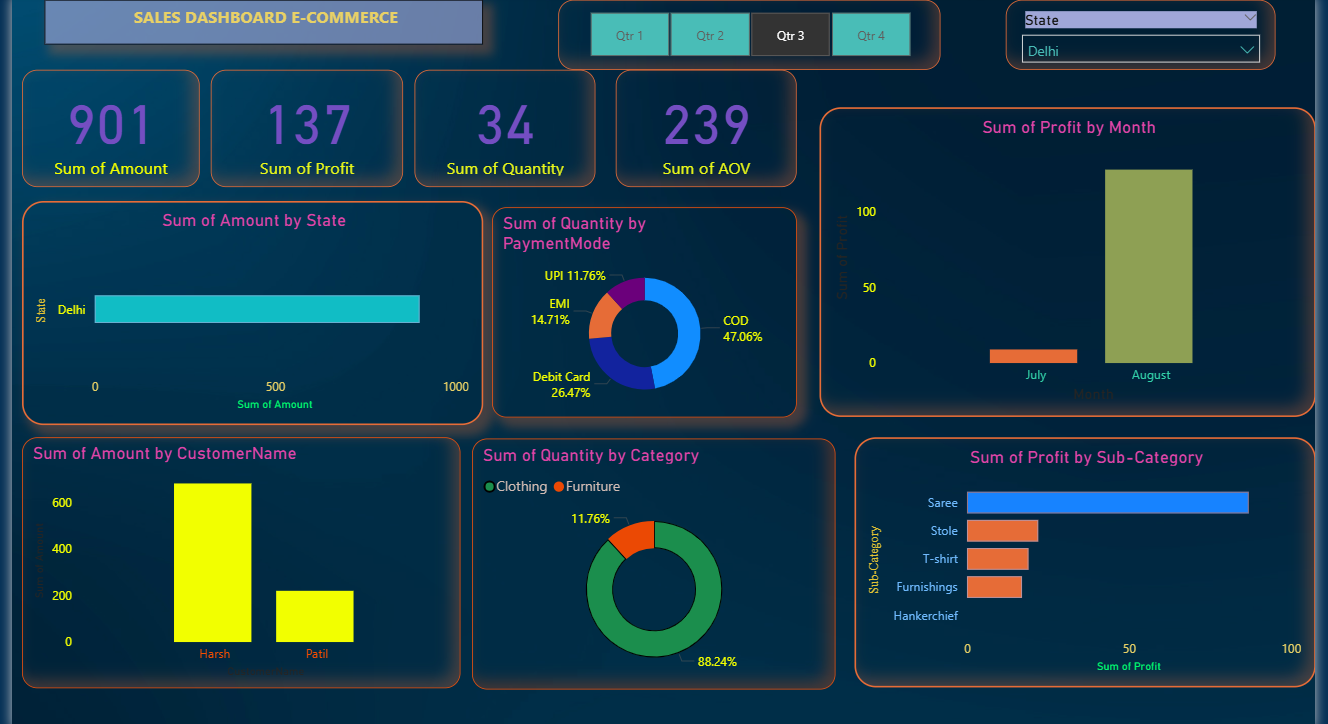

Layout of this report page (visuals, bound fields, positions):
{"tool":"powerbi","page":{"name":"Page 1","canvas":[1280,720],"ordinal":0},"visuals":[{"type":"columnChart","fields":{"Y":["Sum(detail csssv.Profit)"],"Category":["Orders cssv.Order Date.Variation.Date Hierarchy.Month"]},"box":[792.6,109.2,487.1,304.3],"z":0},{"type":"barChart","fields":{"Category":["detail csssv.Sub-Category"],"Y":["Sum(detail csssv.Profit)"]},"box":[827,433.1,452.8,245.4],"z":1000},{"type":"donutChart","fields":{"Category":["detail csssv.Category","Orders cssv.Order Date.Variation.Date Hierarchy.Month"],"Y":["Sum(detail csssv.Quantity)"]},"box":[451.5,434.4,357.1,246.6],"z":2000},{"type":"donutChart","fields":{"Y":["Sum(detail csssv.Quantity)"],"Category":["detail csssv.PaymentMode"]},"box":[471.2,207.4,299.4,206.1],"z":3000},{"type":"barChart","fields":{"Category":["Orders cssv.State"],"Y":["Sum(detail csssv.Amount)"]},"box":[9.8,201.2,452.8,219.6],"z":4000},{"type":"textbox","box":[31.9,3.7,430.7,44.2],"z":5000},{"type":"columnChart","fields":{"Y":["Sum(detail csssv.Amount)"],"Category":["Orders cssv.CustomerName"]},"box":[9.8,433.1,430.7,246.6],"z":6000},{"type":"card","fields":{"Values":["Sum(detail csssv.Amount)"]},"box":[9.8,72.4,174.2,115.3],"z":7000},{"type":"card","fields":{"Values":["Sum(detail csssv.Profit)"]},"box":[195.1,72.4,189,115.3],"z":8000},{"type":"card","fields":{"Values":["Sum(detail csssv.Quantity)"]},"box":[395.1,72.4,177.9,115.3],"z":9000},{"type":"card","fields":{"Values":["Sum(detail csssv.sum of AOV)"]},"box":[592.6,72.4,177.9,115.3],"z":10000},{"type":"slicer","fields":{"Values":["Orders cssv.Order Date.Variation.Date Hierarchy.Quarter"]},"box":[536.2,3.7,375.5,68.7],"z":11000},{"type":"slicer","fields":{"Values":["Orders cssv.State"]},"box":[975.5,3.7,265,68.7],"z":12000}]}

Visuals, with their boxes in screenshot pixels (x1, y1, x2, y2):
columnChart - Sum(detail csssv.Profit) x Orders cssv.Order Date.Variation.Date Hierarchy.Month: crop(814, 102, 1313, 414)
barChart - detail csssv.Sub-Category x Sum(detail csssv.Profit): crop(849, 434, 1314, 686)
donutChart - detail csssv.Category x Orders cssv.Order Date.Variation.Date Hierarchy.Month: crop(463, 435, 830, 689)
donutChart - Sum(detail csssv.Quantity) x detail csssv.PaymentMode: crop(484, 202, 791, 414)
barChart - Orders cssv.State x Sum(detail csssv.Amount): crop(10, 196, 475, 422)
textbox: crop(33, 0, 475, 39)
columnChart - Sum(detail csssv.Amount) x Orders cssv.CustomerName: crop(10, 434, 452, 687)
card - Sum(detail csssv.Amount): crop(10, 64, 189, 182)
card - Sum(detail csssv.Profit): crop(200, 64, 394, 182)
card - Sum(detail csssv.Quantity): crop(406, 64, 588, 182)
card - Sum(detail csssv.sum of AOV): crop(608, 64, 791, 182)
slicer - Orders cssv.Order Date.Variation.Date Hierarchy.Quarter: crop(550, 0, 936, 64)
slicer - Orders cssv.State: crop(1001, 0, 1273, 64)
